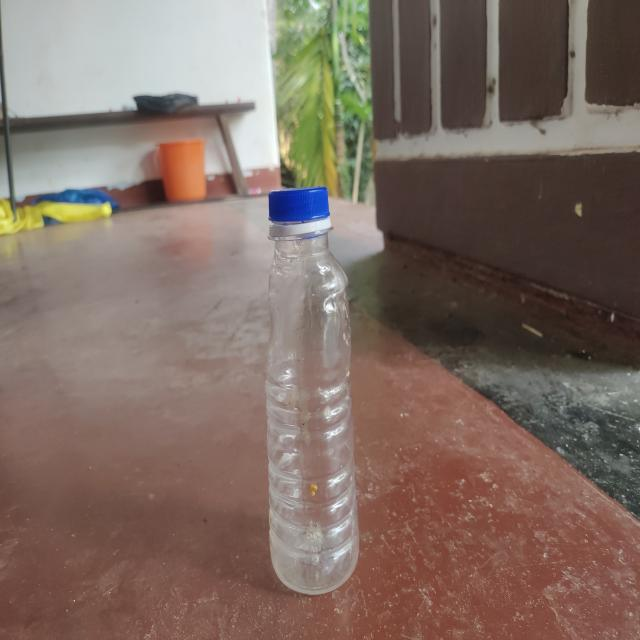plastic: (261, 183, 361, 596)
